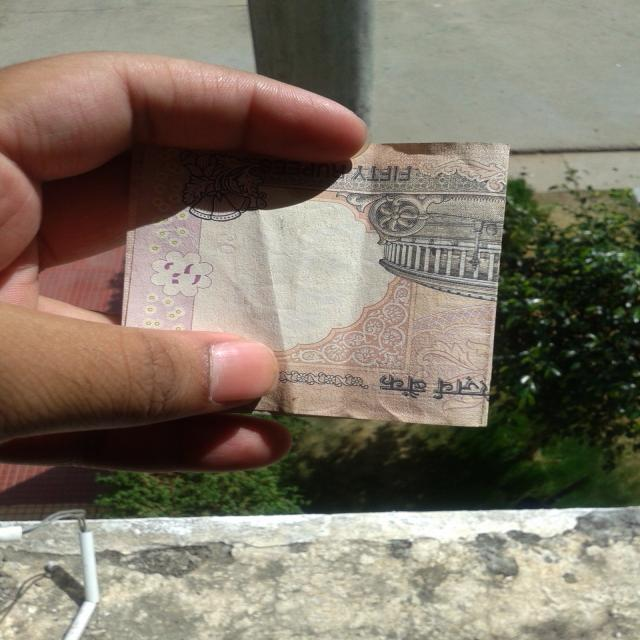50rs: (138, 132, 498, 430)
